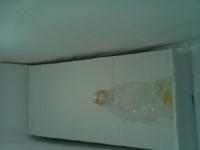bottle: (93, 66, 173, 115)
